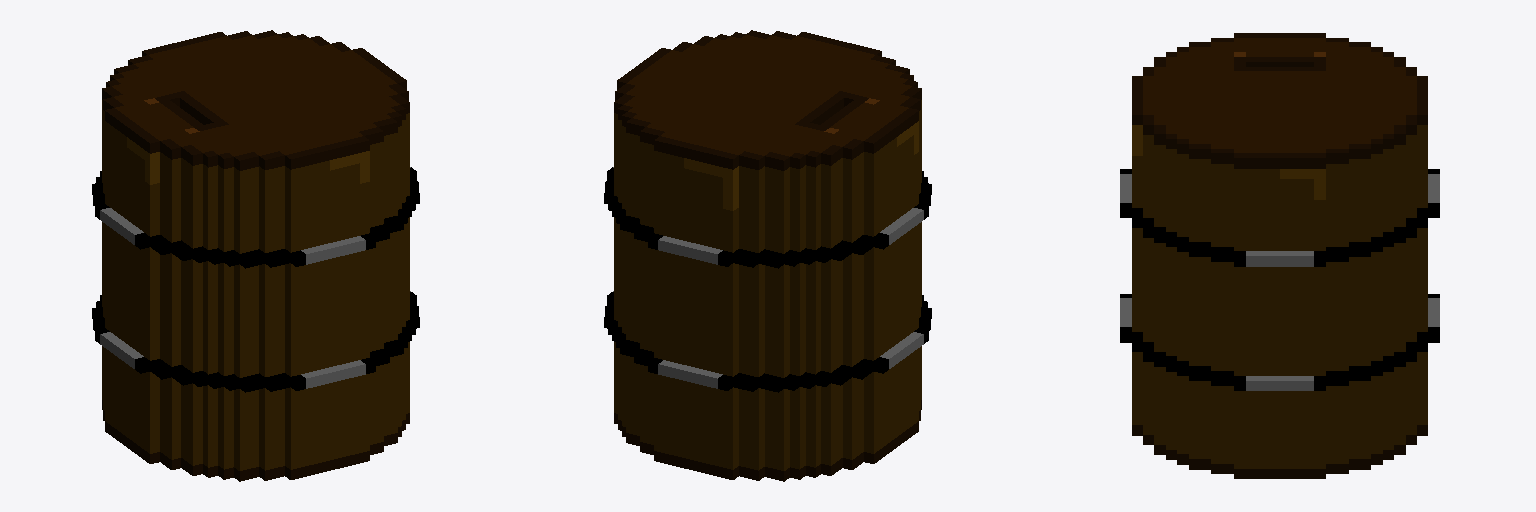
3 views of the same model, side by side, from view 1: azimuth 30°, elevation 25°; view 2: azimuth 150°, elevation 25°; view 3: azimuth 270°, elevation 25° (orthographic).
Parts seen in each view (by area): view 1: object 1; view 2: object 1; view 3: object 1.
Part boxes in pixels (x1,y1,x2,y2): object 1: (92,30,419,481); object 1: (604,30,931,481); object 1: (1120,33,1439,478).
Size of the model in its own units: 2.8 by 3.1 by 2.8.
Materials: 1 (1 with a texture image).